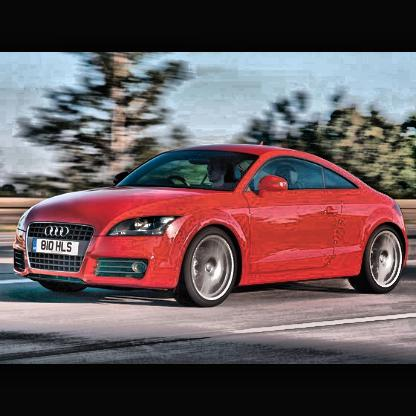Audi TT Hatchback 2011: (14, 143, 409, 308)
